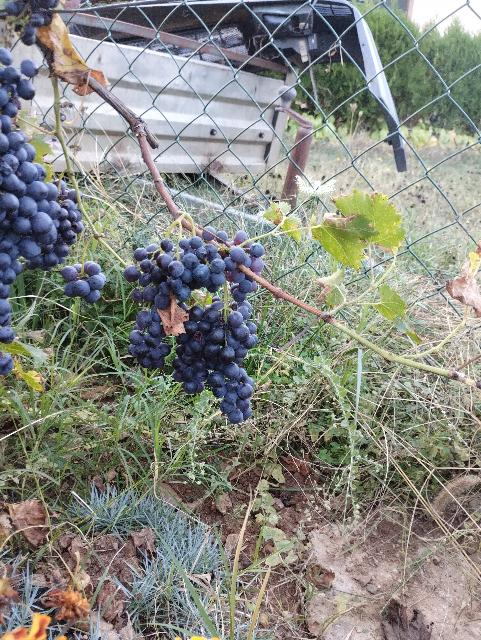grapes: (0, 129, 84, 344), (172, 298, 258, 424), (124, 239, 199, 369), (165, 236, 226, 301), (0, 48, 35, 135), (61, 261, 106, 304)
